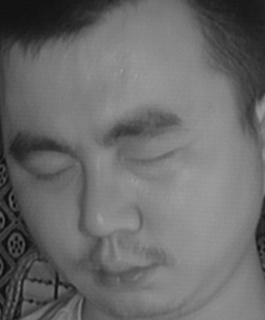blink: (27, 155, 78, 193), (126, 144, 176, 181)
mouth: (77, 246, 160, 299)
